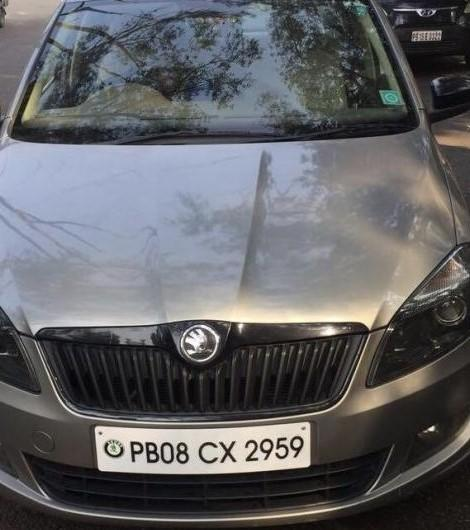License-Plate: (96, 427, 313, 468)
